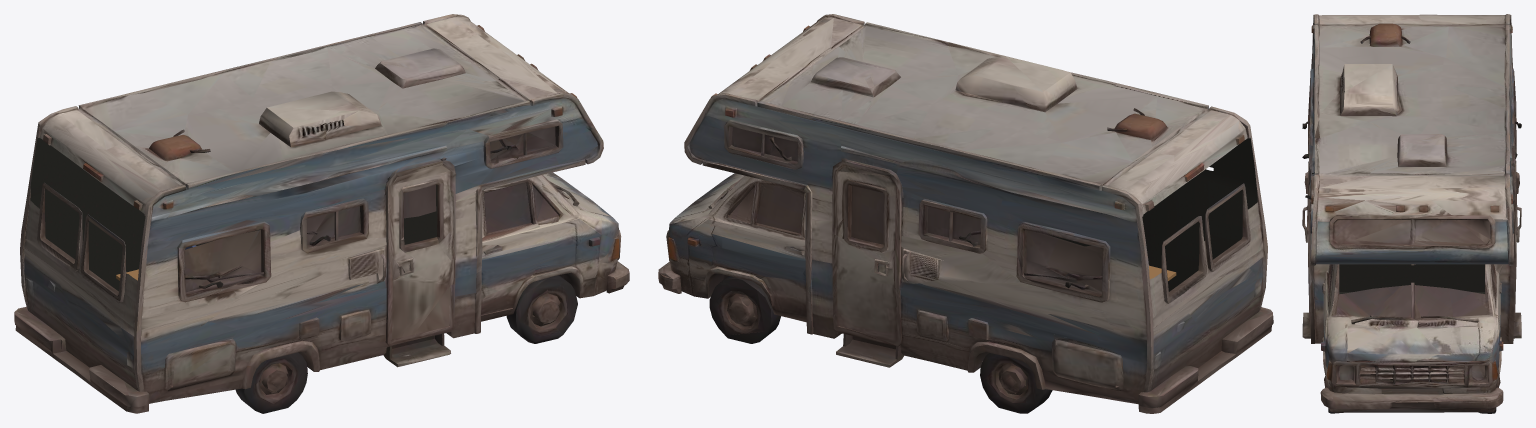
The model's file is motorhome.glb.
The picture shows the model from 3 angles, left to right: view 1: azimuth 30°, elevation 25°; view 2: azimuth 150°, elevation 25°; view 3: azimuth 270°, elevation 25°; orthographic projection. The views are drawn at different scales.
Parts seen in each view (by area): view 1: body, door_entry, door_front_1, wheel_3, wheel_2; view 2: body, door_back_1, wheel_4, wheel_1; view 3: body, door_back_1, door_front_1, door_entry.
Boxes of the visible parts, x1,y1,x2,y2 form: body: (14,14,629,413); door_entry: (384,160,454,345); door_front_1: (481,175,566,312); wheel_3: (506,275,577,343); wheel_2: (235,351,308,413); body: (658,14,1273,413); door_back_1: (721,175,806,312); wheel_4: (708,276,772,343); wheel_1: (979,353,1052,413); body: (1302,14,1521,412); door_back_1: (1486,264,1501,351); door_front_1: (1322,264,1337,341); door_entry: (1304,153,1313,321).
Bounding box in the file's own units: 7 × 3.48 × 2.9.
12 materials, 4 textured.
